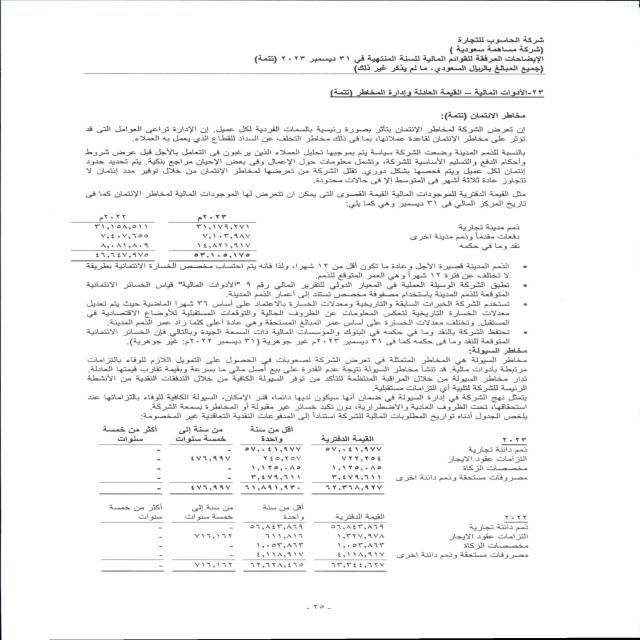notes: (422, 53, 548, 66)
table: (68, 505, 540, 583), (81, 424, 535, 499), (65, 204, 268, 264)
